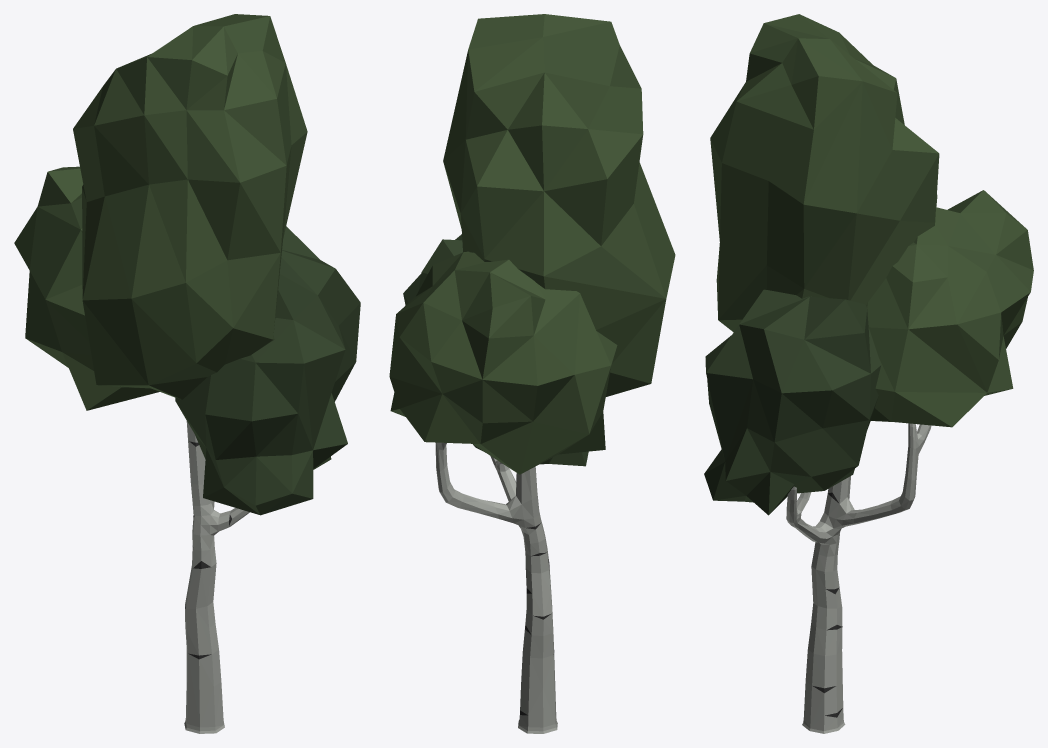
Rendered from BirchTree_3.glb.
The picture shows the model from 3 angles, left to right: view 1: azimuth 30°, elevation 25°; view 2: azimuth 150°, elevation 25°; view 3: azimuth 270°, elevation 25°; orthographic projection. The views are drawn at different scales.
Parts seen in each view (by area): view 1: BirchTree_3; view 2: BirchTree_3; view 3: BirchTree_3.
Boxes of the visible parts, x1,y1,x2,y2 form: BirchTree_3: (14,14,360,733); BirchTree_3: (389,14,675,733); BirchTree_3: (704,14,1033,733).
Bounding box in the file's own units: 1.57 × 4.09 × 1.77.
